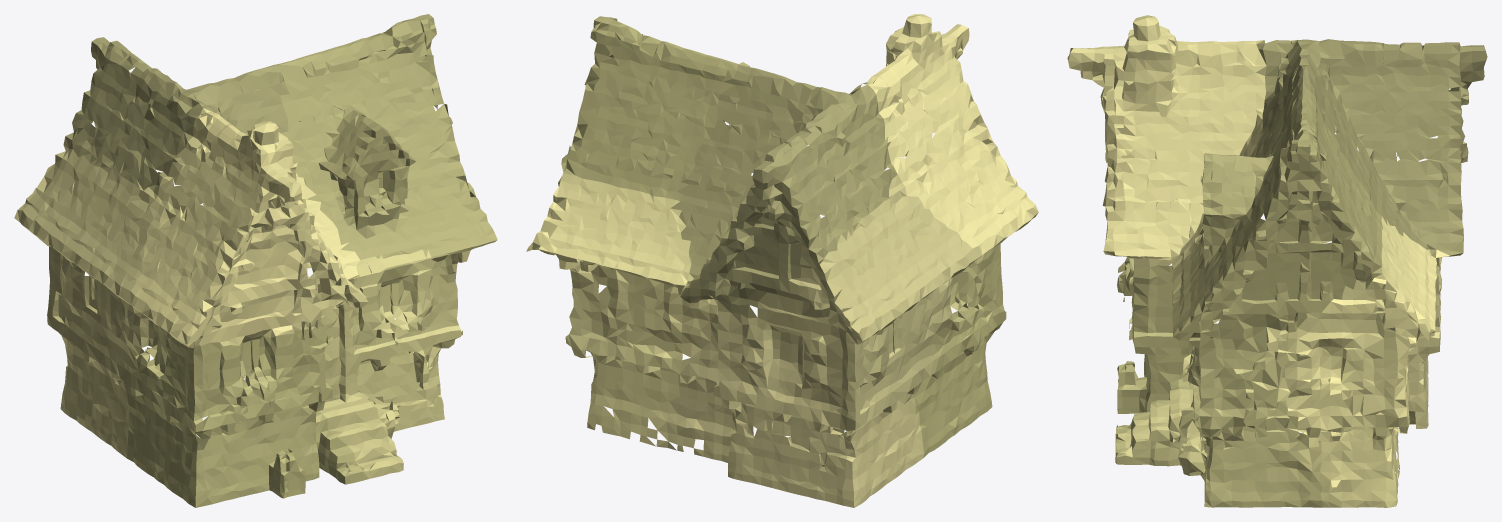
File: hut.glb
3 renders of one model, left to right at view 1: azimuth 30°, elevation 25°; view 2: azimuth 150°, elevation 25°; view 3: azimuth 270°, elevation 25°, orthographic. The views are drawn at different scales.
Parts seen in each view (by area): view 1: part_3, part_6, part_2, part_1, part_0, part_5, part_4; view 2: part_5, part_0, part_7, part_4, part_3, part_6, part_2; view 3: part_6, part_3, part_5, part_7, part_1, part_2, part_4.
Boxes of the visible parts, x1,y1,x2,y2 form: part_3: (131, 108, 367, 348); part_6: (279, 14, 497, 259); part_2: (120, 320, 368, 507); part_1: (319, 249, 470, 478); part_0: (14, 137, 159, 385); part_5: (65, 37, 293, 205); part_4: (59, 333, 244, 457); part_5: (670, 65, 897, 323); part_0: (740, 174, 982, 430); part_7: (526, 173, 717, 446); part_4: (656, 307, 924, 507); part_3: (867, 14, 1038, 255); part_6: (561, 16, 749, 199); part_2: (820, 243, 1006, 457); part_6: (1172, 81, 1382, 352); part_3: (1067, 15, 1266, 267); part_5: (1256, 39, 1487, 266); part_7: (1265, 215, 1449, 507); part_1: (1115, 260, 1341, 507); part_2: (1115, 257, 1193, 446); part_4: (1394, 257, 1441, 469).
Bounding box in the file's own units: 1.77 × 1.81 × 1.78.
